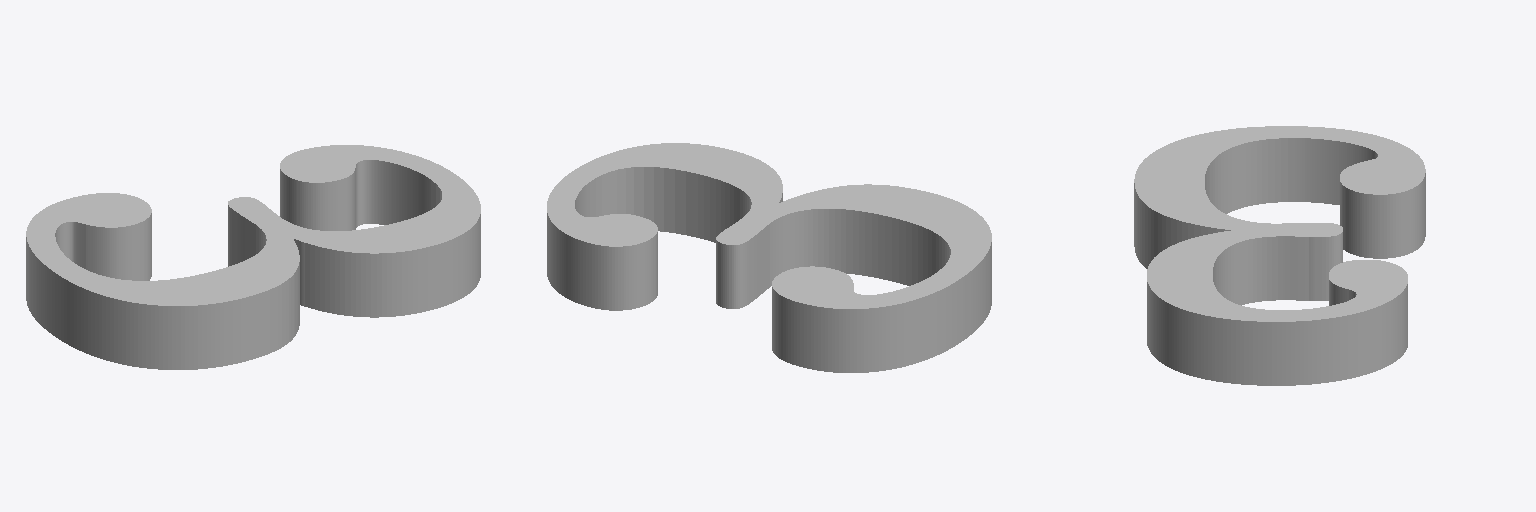
Rendered from number3.obj.
3 renders of one model, left to right at view 1: azimuth 30°, elevation 25°; view 2: azimuth 150°, elevation 25°; view 3: azimuth 270°, elevation 25°, orthographic.
Parts seen in each view (by area): view 1: Text.025; view 2: Text.025; view 3: Text.025.
Boxes of the visible parts, x1=… form: Text.025: x1=26, y1=145, x2=480, y2=369; Text.025: x1=547, y1=143, x2=991, y2=372; Text.025: x1=1134, y1=126, x2=1425, y2=385.
Size of the model in its own units: 1.05 by 0.1602 by 0.6606.